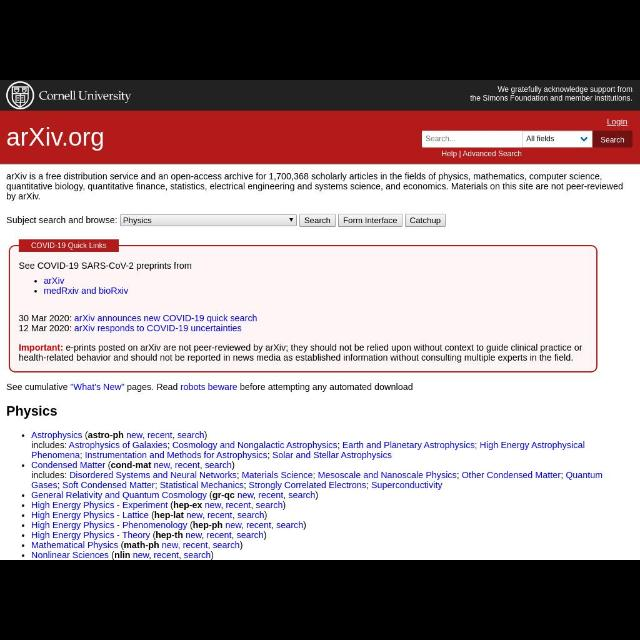icon: (580, 136, 588, 142), (290, 218, 294, 222)
image: (6, 82, 36, 110)
input: (422, 131, 522, 147)
spinner: (121, 214, 296, 226), (524, 132, 592, 148)
text: (21, 432, 602, 558), (6, 172, 624, 202), (19, 344, 583, 362), (6, 382, 414, 392), (469, 86, 633, 102), (7, 126, 105, 152), (19, 314, 258, 324), (20, 323, 242, 333), (18, 262, 192, 270), (38, 90, 132, 104), (6, 216, 118, 226), (34, 286, 128, 296), (7, 406, 58, 420), (441, 150, 522, 158), (31, 242, 107, 250), (344, 218, 396, 225), (34, 276, 64, 286), (122, 217, 152, 226), (410, 217, 440, 226), (526, 134, 554, 142), (601, 136, 625, 144), (606, 118, 628, 126), (306, 218, 330, 225)
textbutton: (340, 215, 402, 227), (594, 132, 632, 148), (300, 215, 336, 228), (405, 216, 445, 227)
toolbar: (1, 112, 640, 164)
